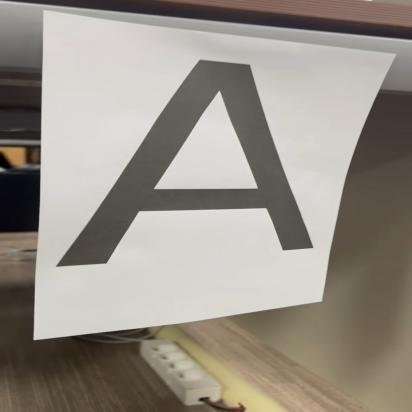seat: (56, 51, 330, 275)
